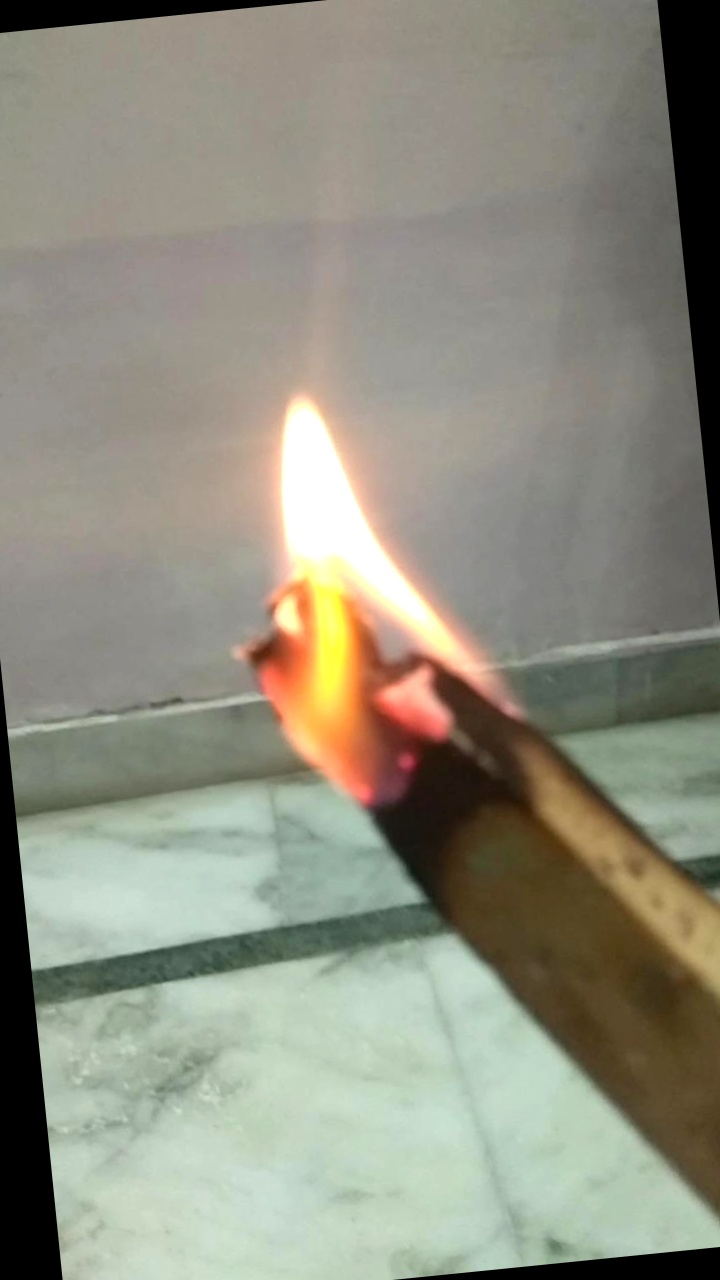fire: (215, 355, 443, 755)
